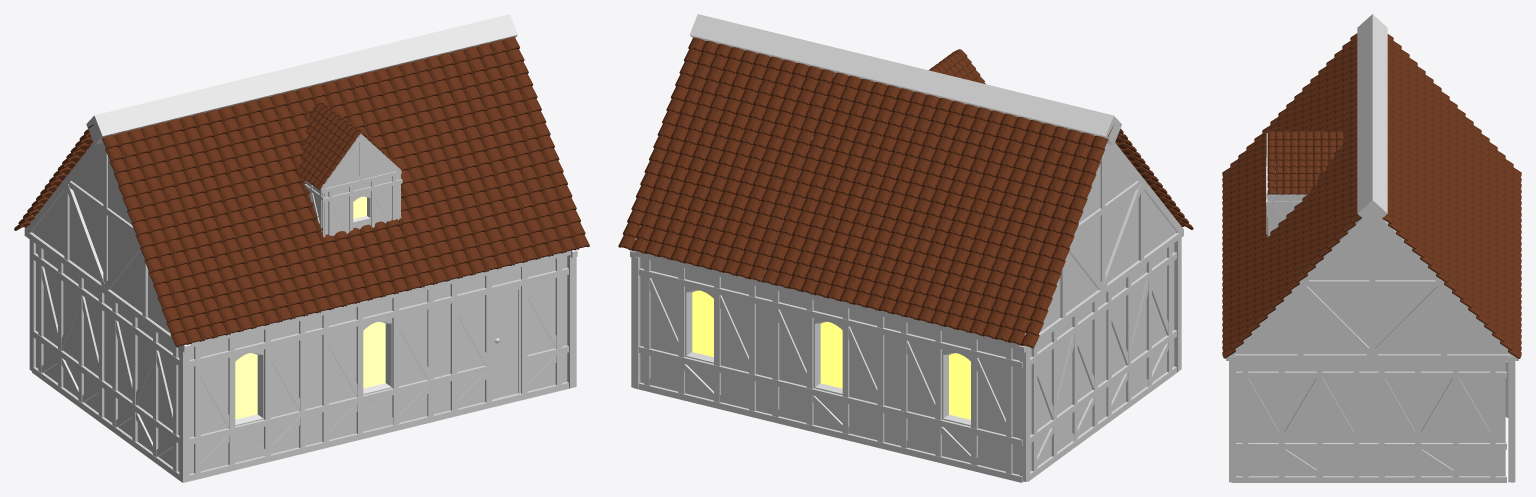
File: SM_Var1.fbx
3 views of the same model, side by side, from view 1: azimuth 30°, elevation 25°; view 2: azimuth 150°, elevation 25°; view 3: azimuth 270°, elevation 25° (orthographic). The views are drawn at different scales.
Parts seen in each view (by area): view 1: RoofBig.010, RoofBig.006, RoofBig.008, Window, Window.001, Door.001, Post.016, Wall.002, Wall.003, Wall.011, BigRoofEnd.002, BigRoofEnd.003 (+7 smaller); view 2: RoofBig.011, RoofBig.007, RoofBig.009, Window.003, Window.002, Window.004, Post.016, Wall.003, Wall.002, BigRoofEnd.003, BigRoofEnd.002, Post.015 (+7 smaller); view 3: Wall.001, Wall, BigRoofEnd, BigRoofEnd.001, RoofBig.006, RoofBig.007, RoofBig.011, RoofBig.009, RoofBig.010, Post.016, Wall.011, RoofBig.008 (+2 smaller).
Boxes of the visible parts, <box> form: RoofBig.010: <box>101,103,318,347</box>; RoofBig.006: <box>373,37,589,280</box>; RoofBig.008: <box>244,71,447,312</box>; Window: <box>313,286,441,450</box>; Window.001: <box>189,317,316,481</box>; Door.001: <box>441,256,569,419</box>; Post.016: <box>86,14,517,144</box>; Wall.002: <box>32,244,109,426</box>; Wall.003: <box>106,298,181,481</box>; Wall.011: <box>295,102,402,237</box>; BigRoofEnd.002: <box>24,142,107,292</box>; BigRoofEnd.003: <box>103,143,189,352</box>; RoofBig.011: <box>891,104,1113,348</box>; RoofBig.007: <box>618,37,835,281</box>; RoofBig.009: <box>761,72,965,313</box>; Window.003: <box>762,288,894,450</box>; Window.002: <box>890,319,1022,482</box>; Window.004: <box>634,257,765,419</box>; Post.016: <box>689,14,1121,145</box>; Wall.003: <box>1100,243,1177,426</box>; Wall.002: <box>1027,297,1104,481</box>; BigRoofEnd.003: <box>1100,142,1183,295</box>; BigRoofEnd.002: <box>1018,164,1103,352</box>; Post.015: <box>1019,349,1029,481</box>; Wall.001: <box>1369,361,1506,482</box>; Wall: <box>1231,361,1370,482</box>; BigRoofEnd: <box>1226,218,1375,360</box>; BigRoofEnd.001: <box>1369,219,1518,360</box>; RoofBig.006: <box>1222,155,1361,358</box>; RoofBig.007: <box>1382,156,1521,358</box>; RoofBig.011: <box>1387,34,1521,235</box>; RoofBig.009: <box>1387,98,1521,293</box>; RoofBig.010: <box>1222,33,1357,235</box>; Post.016: <box>1357,14,1387,226</box>; Wall.011: <box>1266,131,1343,236</box>; RoofBig.008: <box>1222,97,1357,292</box>.
Size of the model in its own units: 646 by 467 by 439.
